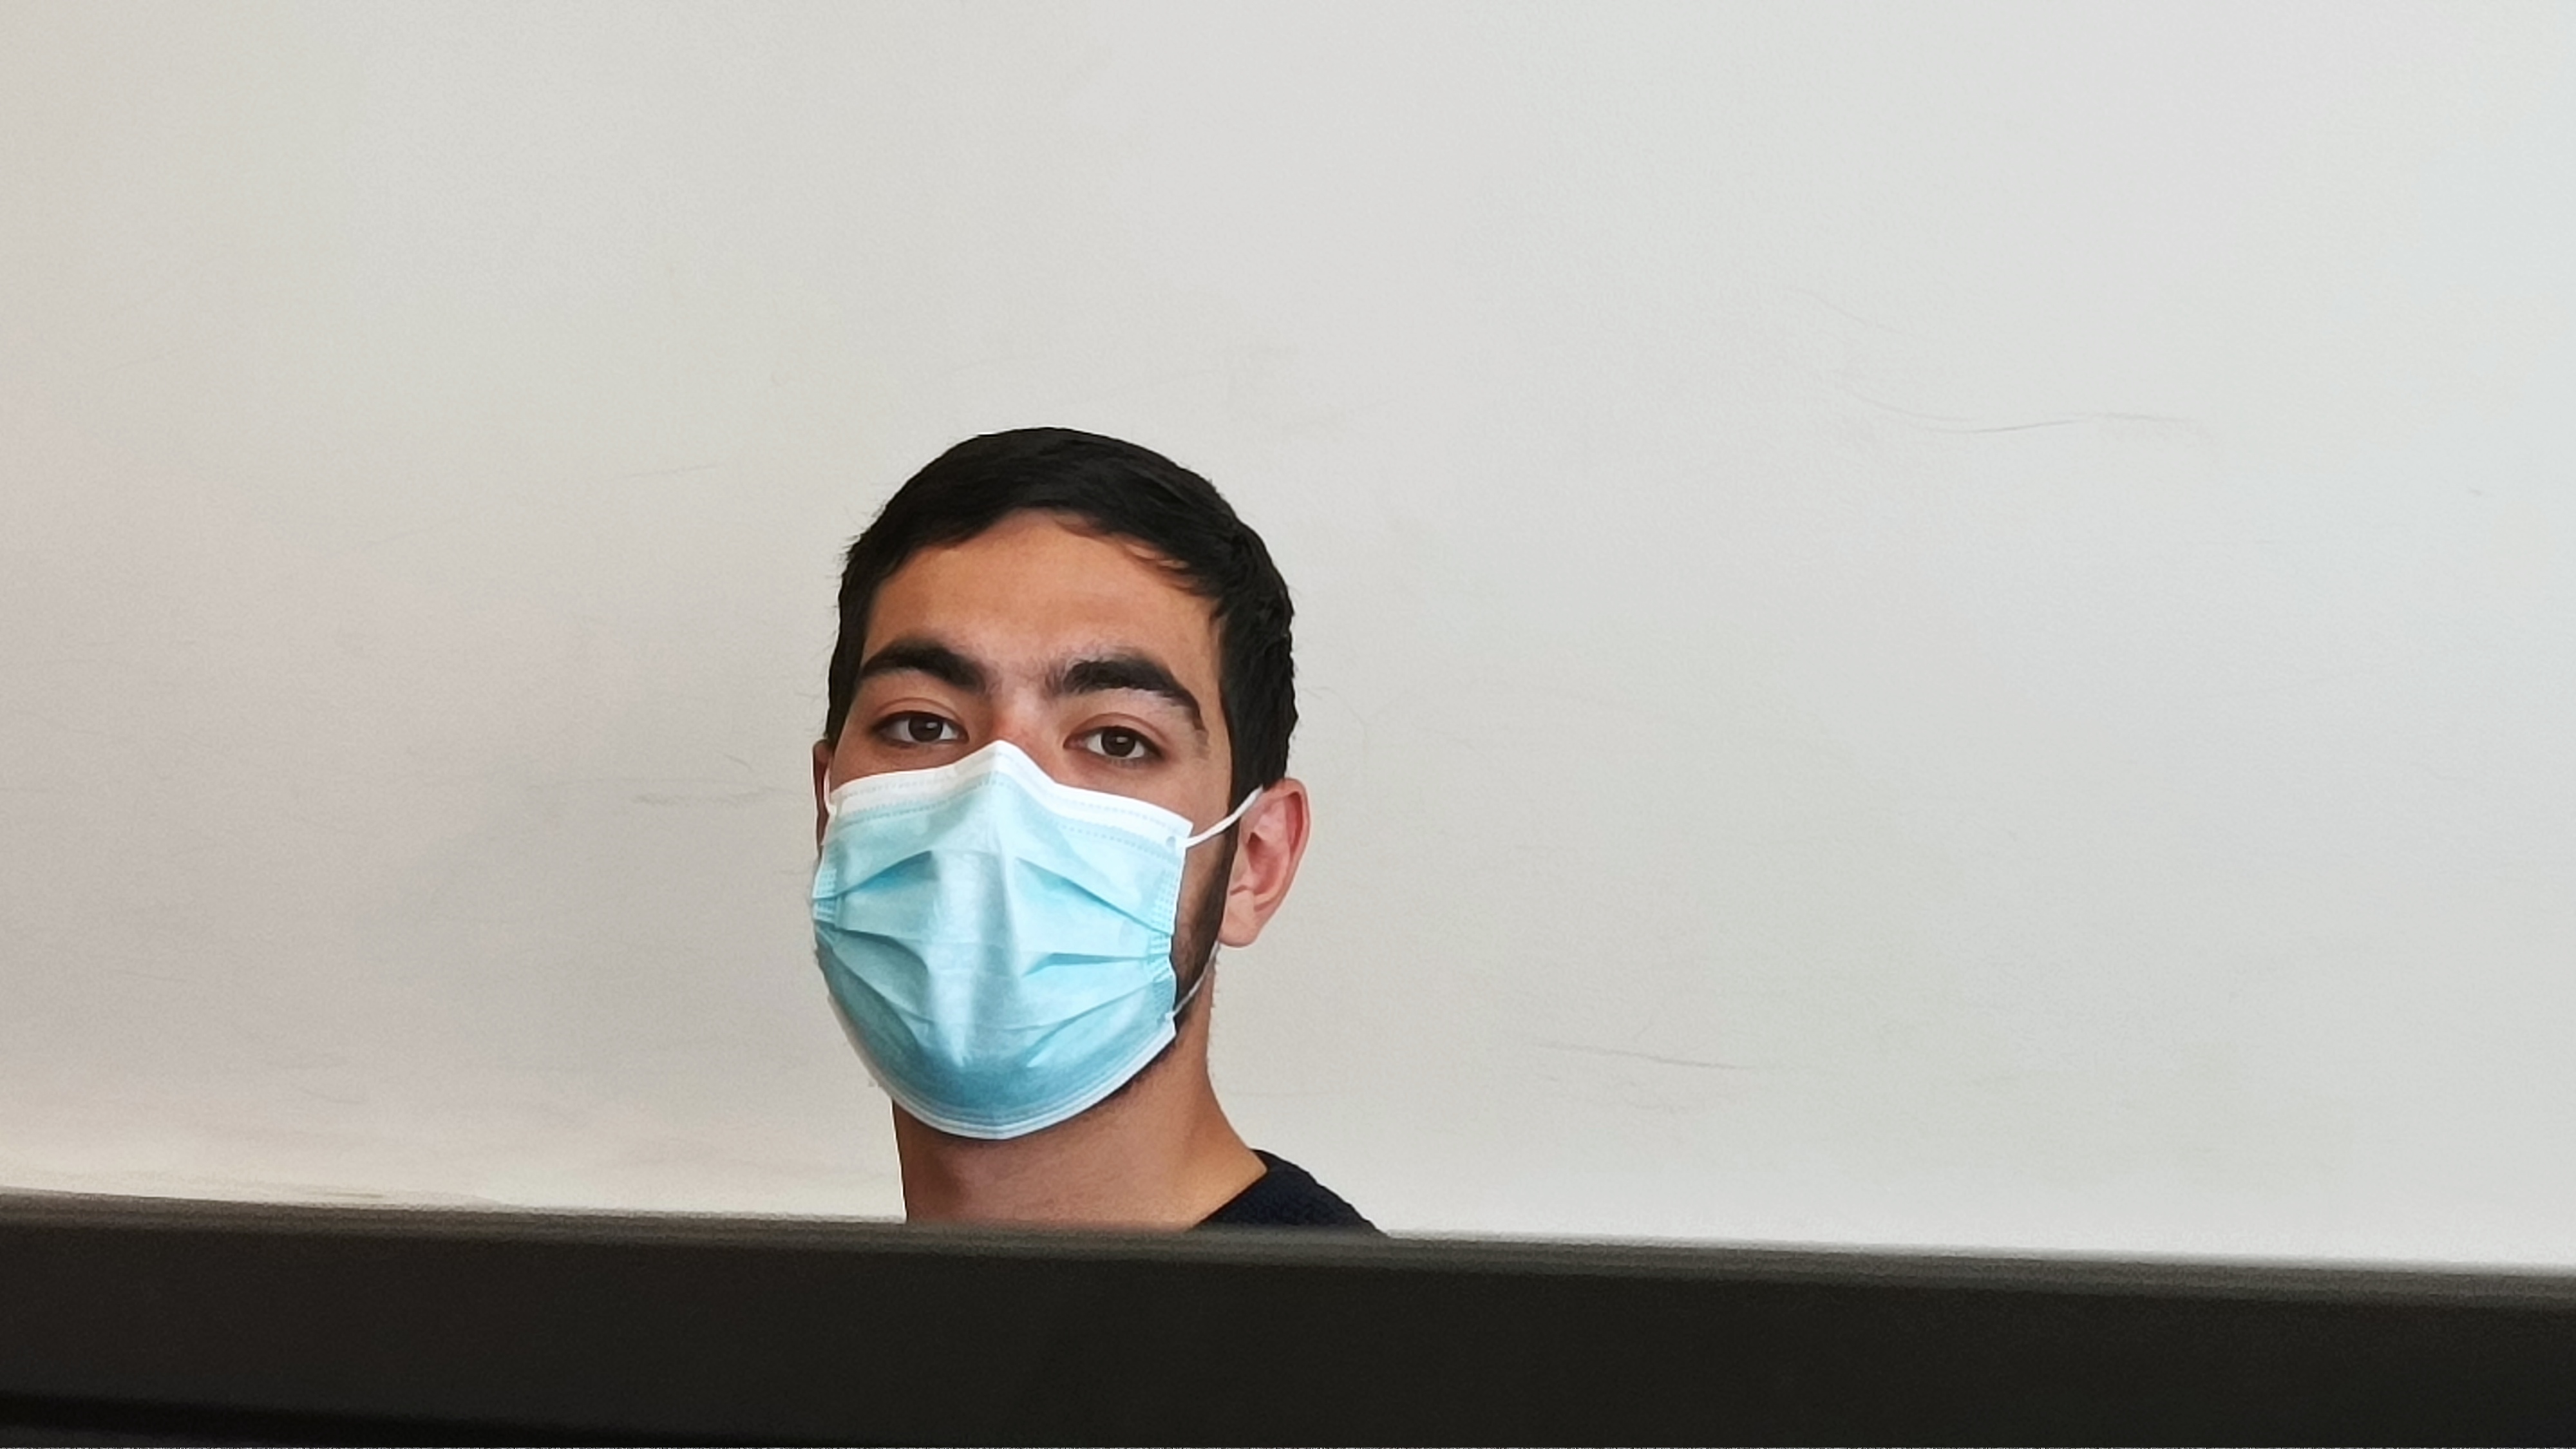with_mask: (830, 593, 1220, 1084)
